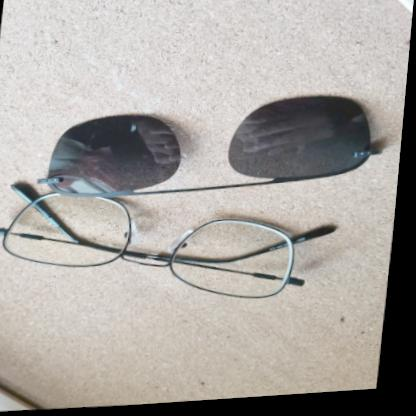Spectacles: (0, 180, 319, 320)
